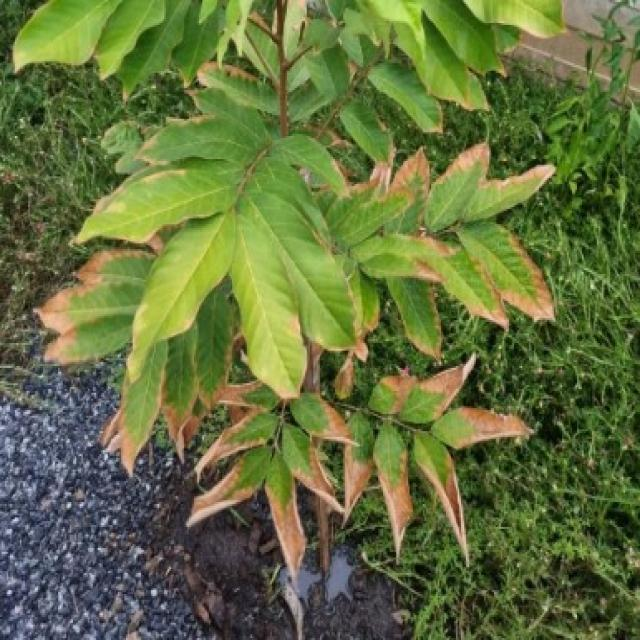Leaf Blight: (112, 350, 342, 602), (338, 360, 598, 565), (370, 126, 588, 340), (35, 206, 130, 392)
